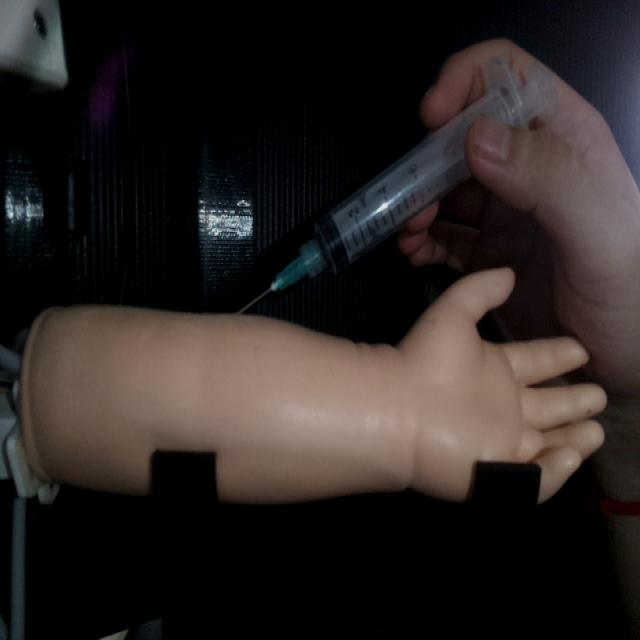Above 30 degrees: (231, 53, 559, 316)
